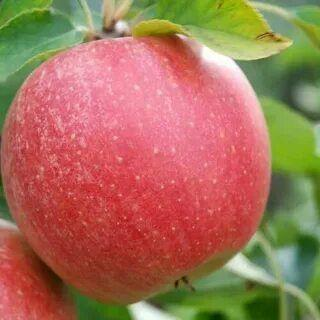Apple: (0, 37, 272, 306)
